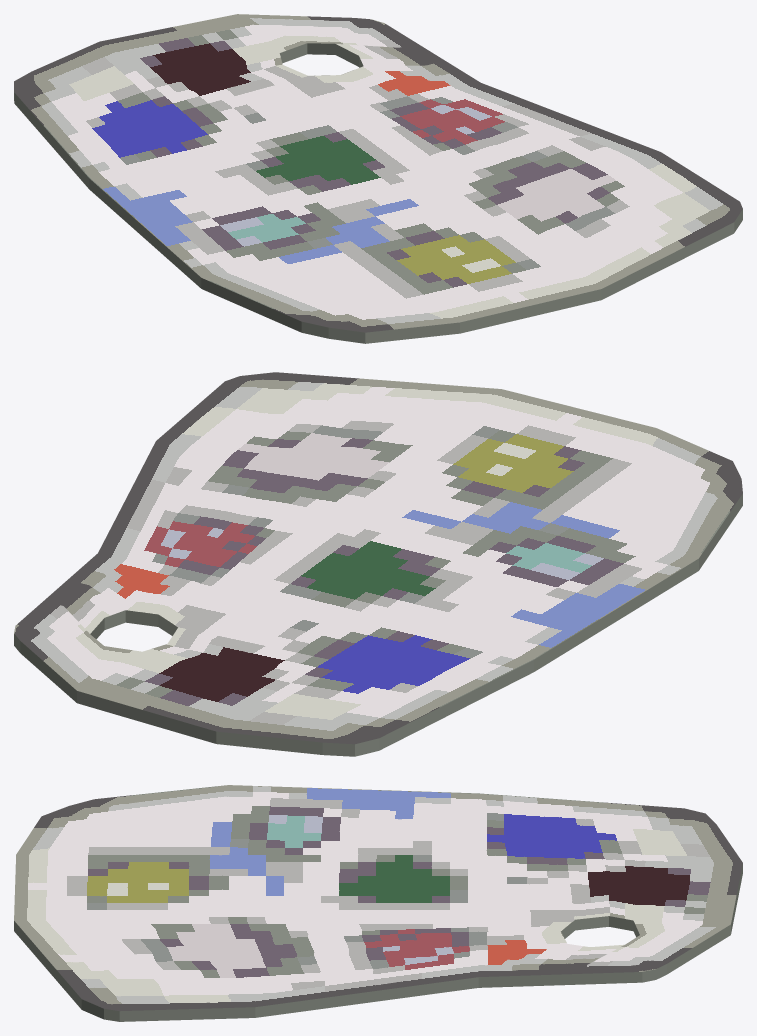
The model's file is Palette.fbx.
3 renders of one model, top to bottom at view 1: azimuth 30°, elevation 25°; view 2: azimuth 150°, elevation 25°; view 3: azimuth 270°, elevation 25°, orthographic. The views are drawn at different scales.
Visible parts, largest first — view 1: Cube; view 2: Cube; view 3: Cube.
Boxes of the visible parts, x1,y1,x2,y2 form: Cube: (14, 14, 742, 343); Cube: (14, 372, 742, 756); Cube: (14, 785, 742, 1021).
Size of the model in its own units: 203 by 4.5 by 276.
1 material, 1 textured.
